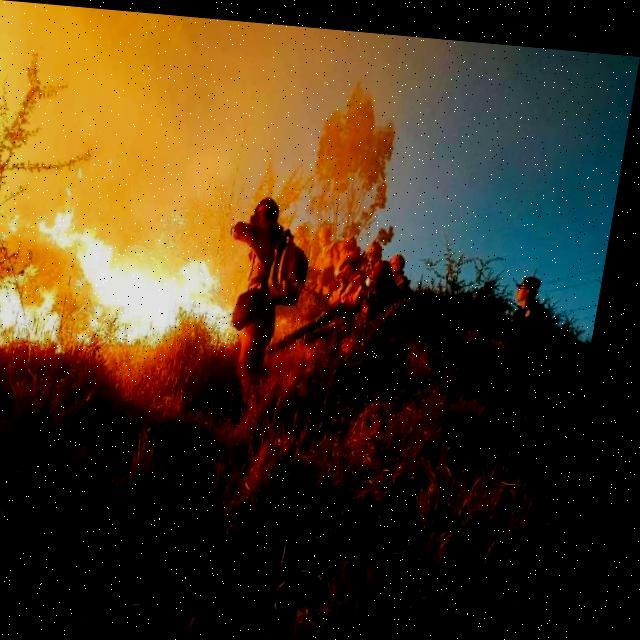Fire: (0, 179, 266, 355)
